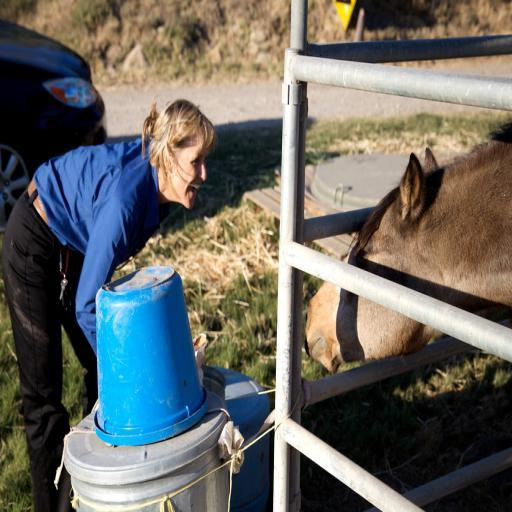Horse: (305, 114, 512, 375)
